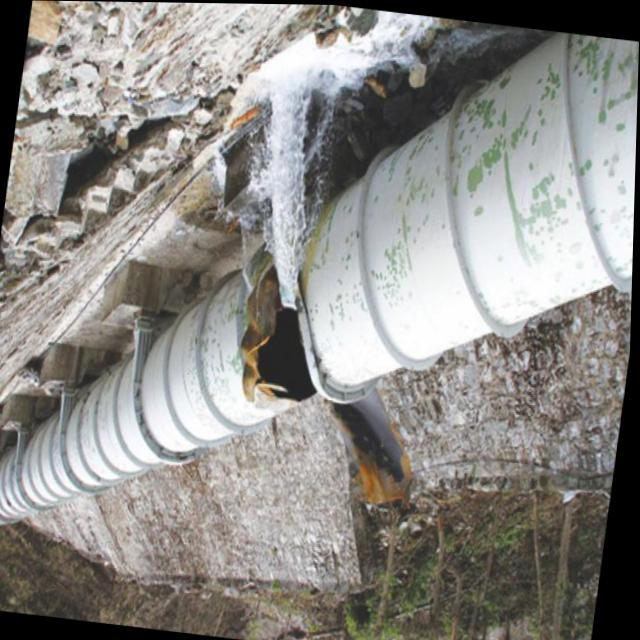leak: (264, 87, 310, 305)
